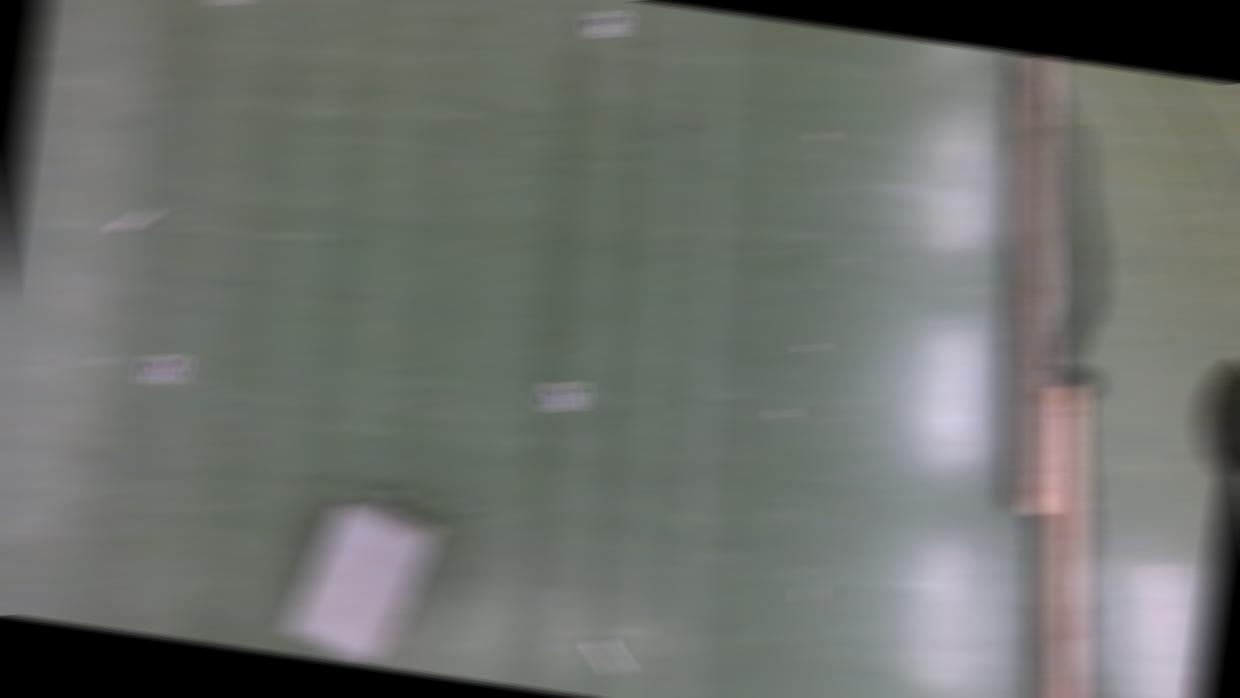probes: (585, 636, 629, 675), (112, 201, 159, 236)
rako: (280, 492, 444, 668)
